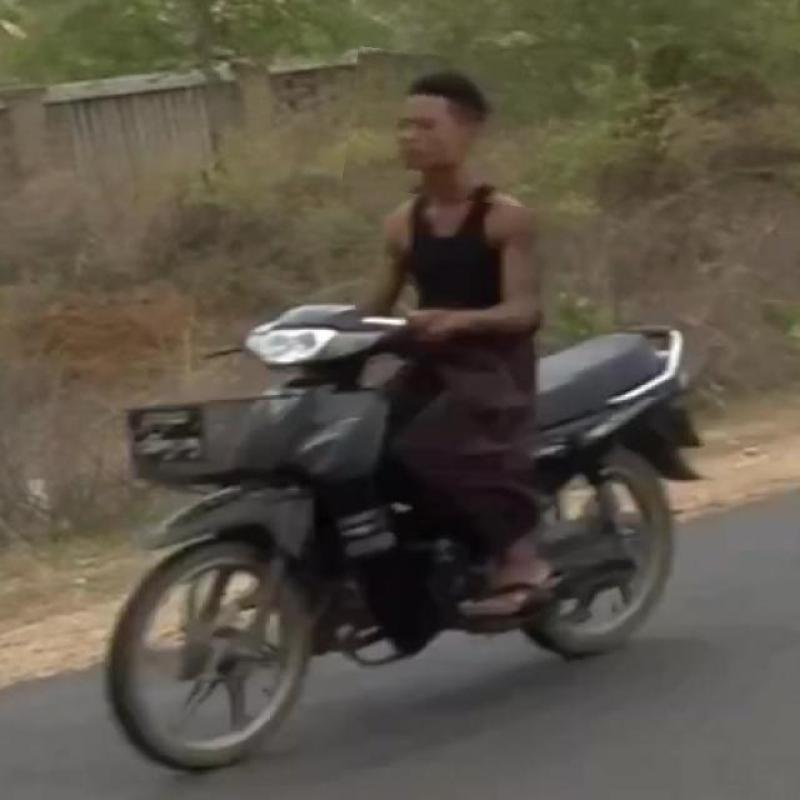nohelmet: (347, 52, 552, 203)
